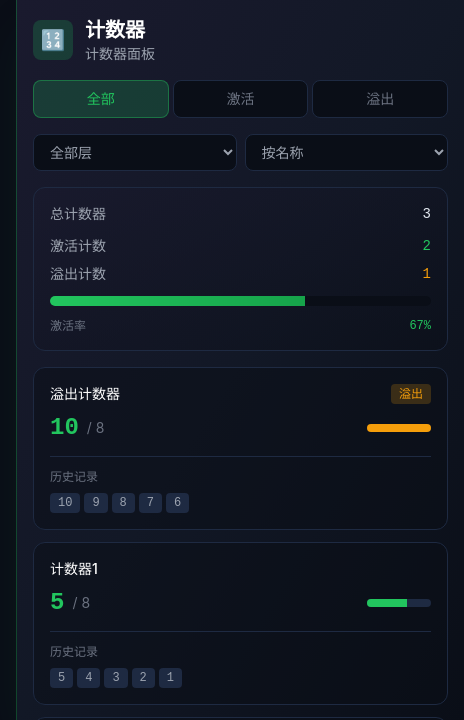
Test: CounterPanel › Tab Filtering › shows only overflow counters on "Overflow" tab
Click the button with test id "counter-tab-overflow" at (380, 99), box left=312, top=80, right=448, bottom=118
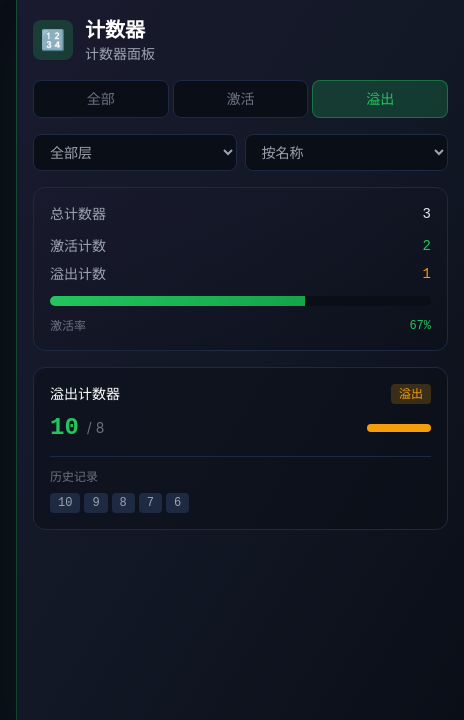
Expected: the element with test id "counter-item-counter-3" is shown, left=33, top=367, right=448, bottom=530
Expected: the element with test id "counter-item-counter-1" is gone
